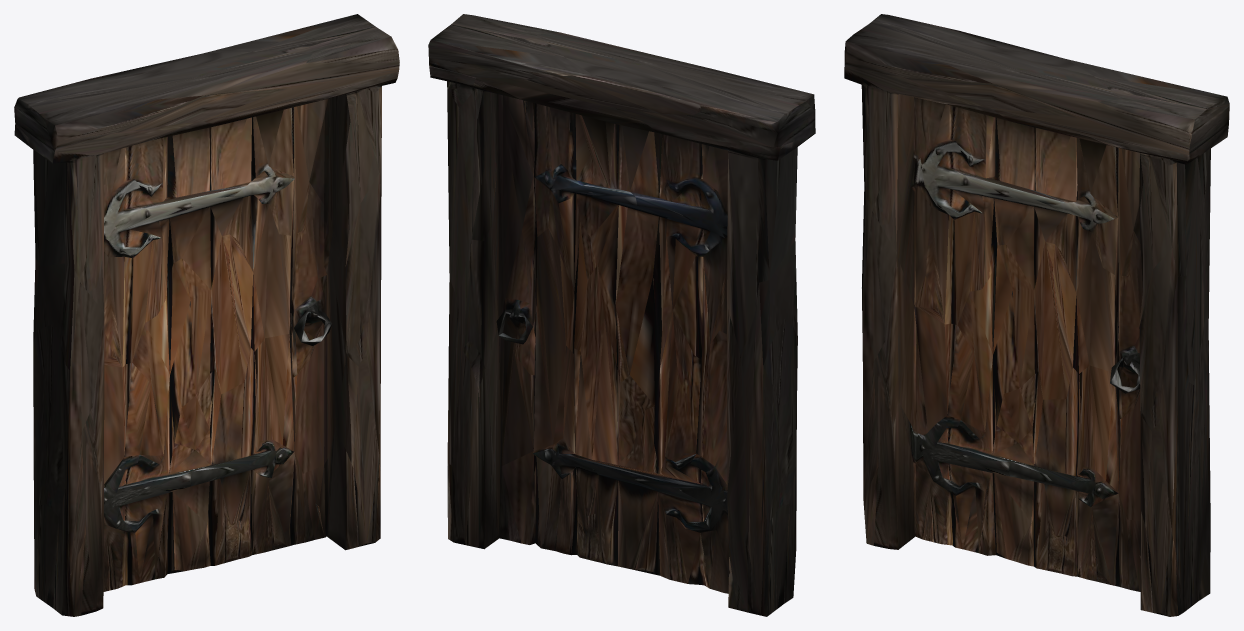
The model's file is Door.glb.
The picture shows the model from 3 angles, left to right: view 1: azimuth 30°, elevation 25°; view 2: azimuth 150°, elevation 25°; view 3: azimuth 330°, elevation 25°; orthographic projection.
Parts seen in each view (by area): view 1: Leaf, Frame; view 2: Leaf, Frame; view 3: Leaf, Frame.
Boxes of the visible parts, x1=… form: Leaf: x1=103, y1=99, x2=330, y2=591; Frame: x1=14, y1=14, x2=399, y2=616; Leaf: x1=497, y1=95, x2=729, y2=593; Frame: x1=428, y1=14, x2=815, y2=616; Leaf: x1=914, y1=98, x2=1142, y2=591; Frame: x1=844, y1=14, x2=1229, y2=616.
Size of the model in its own units: 1.53 by 2.1 by 0.3116.
Materials: 1 (1 with a texture image).
